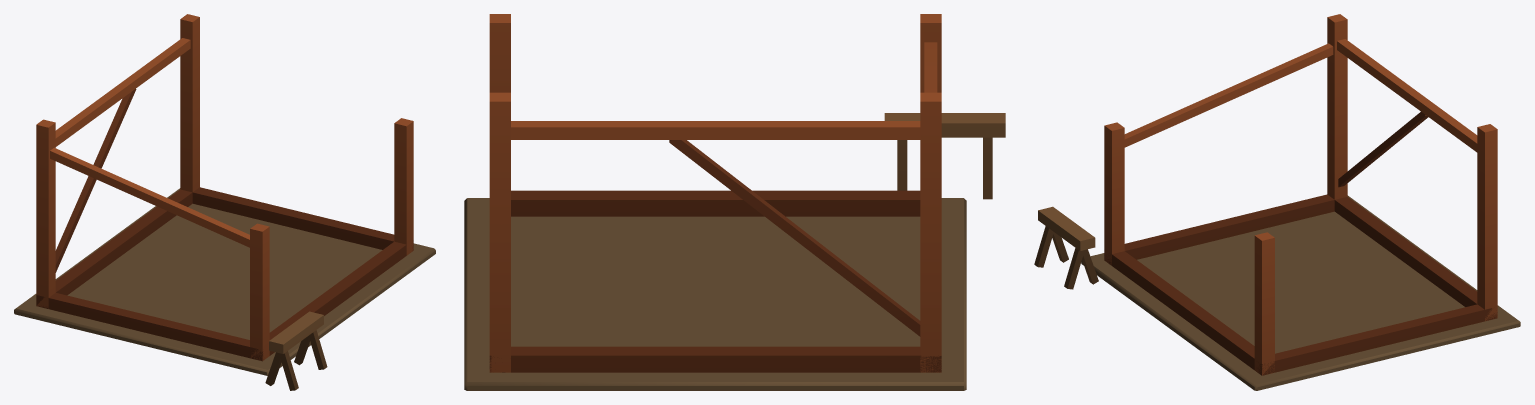
File: site_medium.glb
The picture shows the model from 3 angles, left to right: view 1: azimuth 30°, elevation 25°; view 2: azimuth 150°, elevation 25°; view 3: azimuth 270°, elevation 25°; orthographic projection. The views are drawn at different scales.
Parts seen in each view (by area): view 1: site_medium; view 2: site_medium; view 3: site_medium.
Part boxes in pixels (x1=…): site_medium: x1=14, y1=14, x2=435, y2=390; site_medium: x1=464, y1=14, x2=1005, y2=390; site_medium: x1=1034, y1=14, x2=1520, y2=390.
Bounding box in the file's own units: 0.9167 × 0.4342 × 0.98.
